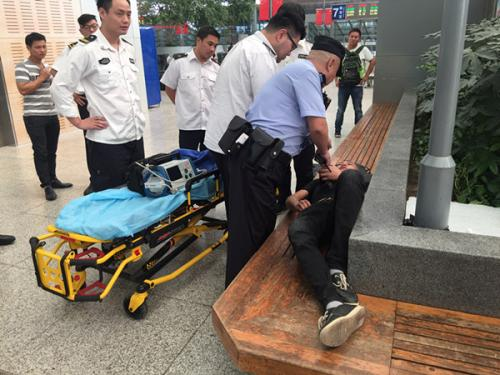fall: (277, 149, 382, 348)
